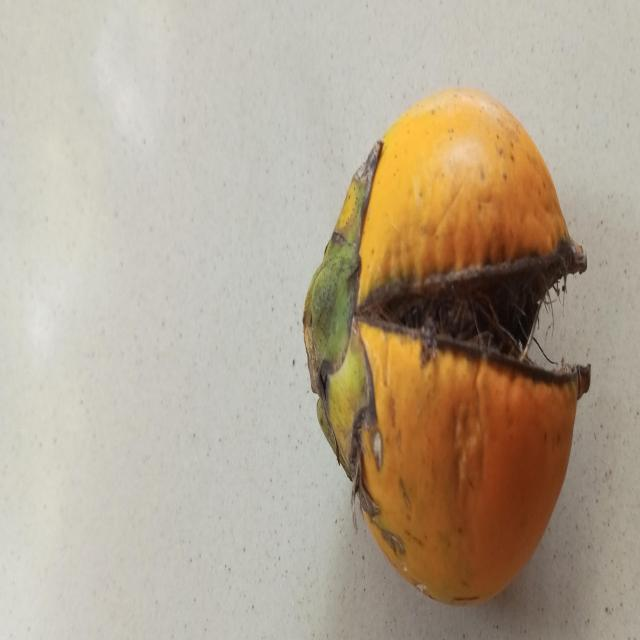damaged: (303, 91, 590, 601)
